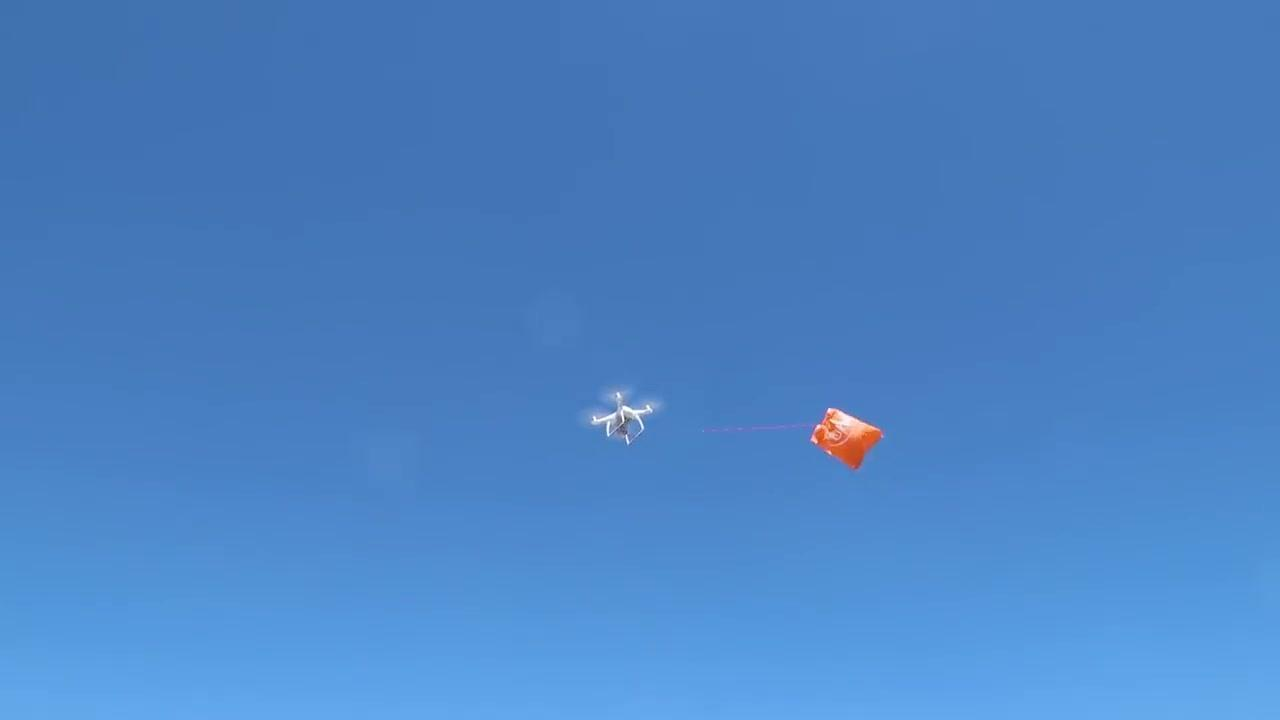UAV: (579, 386, 665, 445)
